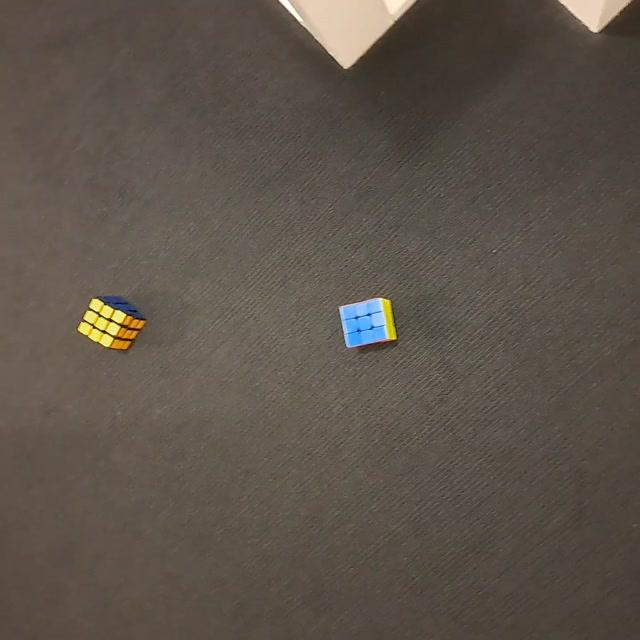rubix_cube: (77, 293, 150, 355), (333, 292, 401, 354)
